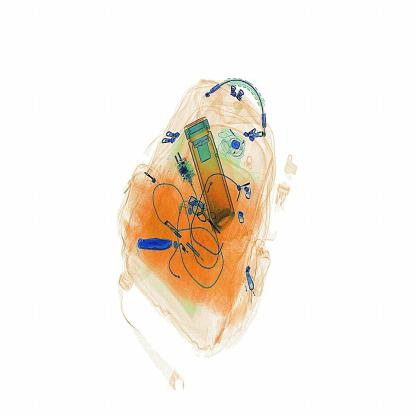knife: (132, 234, 178, 257)
